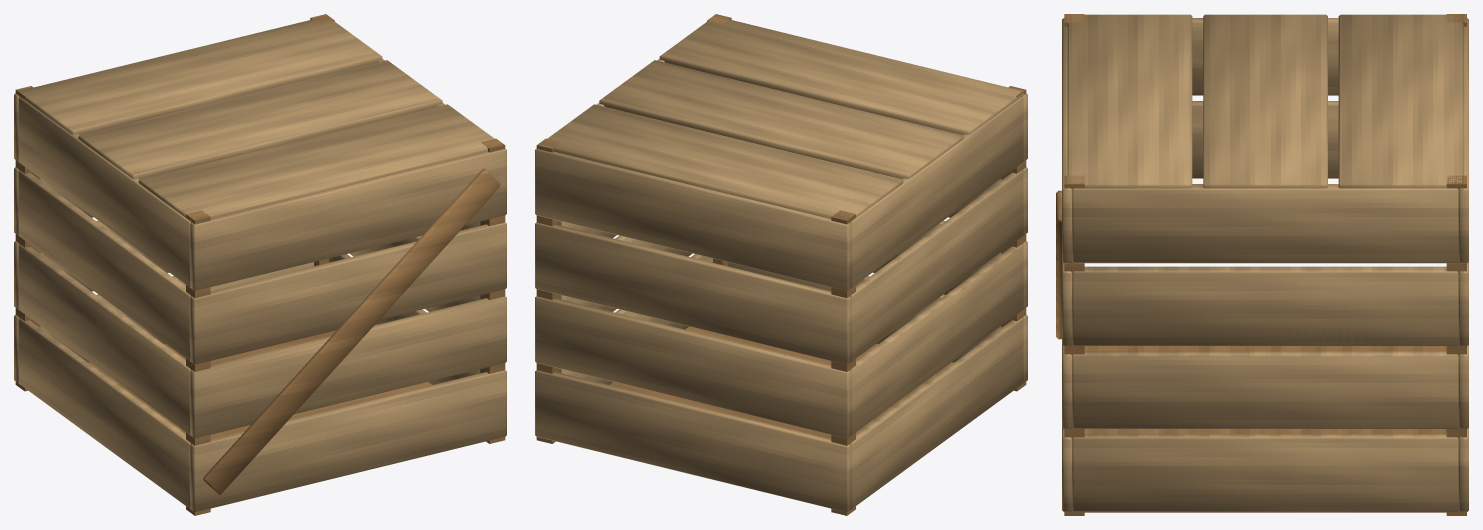
Rendered from caixa_madeira_grande.glb.
The picture shows the model from 3 angles, left to right: view 1: azimuth 30°, elevation 25°; view 2: azimuth 150°, elevation 25°; view 3: azimuth 270°, elevation 25°; orthographic projection. The views are drawn at different scales.
Parts seen in each view (by area): view 1: Inteiro, Peca_02, Peca_03; view 2: Inteiro, Peca_02, Peca_03; view 3: Inteiro, Peca_03, Peca_02.
Part boxes in pixels (box(x1,y1,x2,y2)): Inteiro: box(14, 14, 506, 515); Peca_02: box(18, 101, 190, 505); Peca_03: box(339, 222, 480, 314); Inteiro: box(535, 14, 1027, 515); Peca_02: box(851, 103, 1023, 505); Peca_03: box(561, 221, 712, 325); Inteiro: box(1056, 14, 1468, 515); Peca_03: box(1072, 268, 1458, 510); Peca_02: box(1084, 26, 1446, 268).
Bounding box in the file's own units: 1 × 0.9 × 1.01.
Materials: 1 (1 with a texture image).
